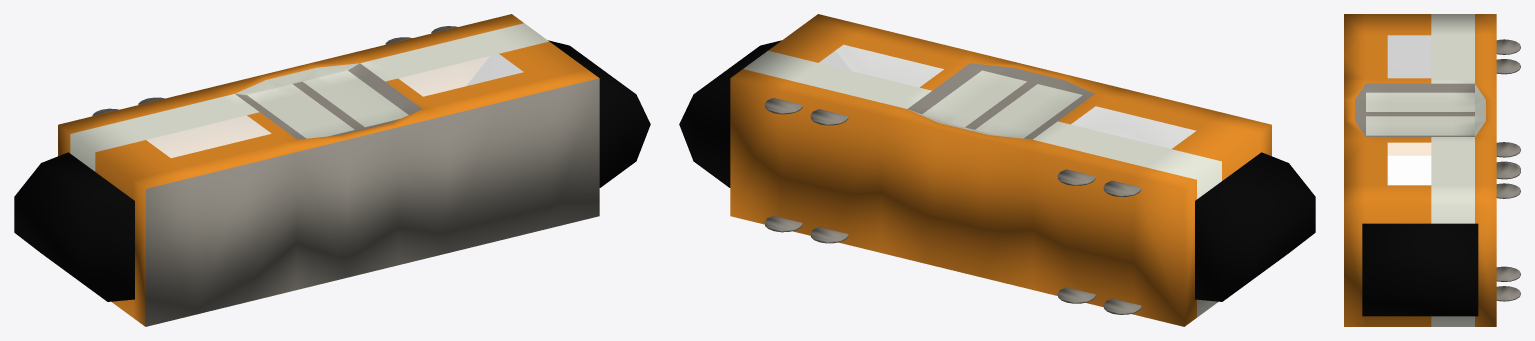
File: asset21.glb
The picture shows the model from 3 angles, left to right: view 1: azimuth 30°, elevation 25°; view 2: azimuth 150°, elevation 25°; view 3: azimuth 270°, elevation 25°; orthographic projection. The views are drawn at different scales.
Parts seen in each view (by area): view 1: Cylinder4, Cylinder4_copy22, Cylinder4_sep21; view 2: Cylinder4, Cylinder4_copy22, Cylinder4_sep21, Cylinder4_sep19, Cylinder4_sep17, Cylinder4_sep15, Cylinder4_sep20, Cylinder4_sep13, Cylinder4_sep18, Cylinder4_sep16, Cylinder4_sep14; view 3: Cylinder4, Cylinder4_sep21, Cylinder4_copy22, Cylinder4_sep20, Cylinder4_sep17, Cylinder4_sep16, Cylinder4_sep13, Cylinder4_sep19, Cylinder4_sep18, Cylinder4_sep15.
Boxes of the visible parts, x1,y1,x2,y2 form: Cylinder4: (58,14,599,326); Cylinder4_copy22: (14,152,134,301); Cylinder4_sep21: (467,40,650,187); Cylinder4: (730,14,1271,326); Cylinder4_copy22: (1195,152,1315,301); Cylinder4_sep21: (679,40,850,187); Cylinder4_sep19: (810,109,848,125); Cylinder4_sep17: (1103,180,1141,196); Cylinder4_sep15: (810,227,848,243); Cylinder4_sep20: (764,98,802,114); Cylinder4_sep13: (1103,298,1141,314); Cylinder4_sep18: (1057,169,1095,185); Cylinder4_sep16: (764,216,802,232); Cylinder4_sep14: (1057,287,1095,303); Cylinder4: (1344,14,1496,326); Cylinder4_sep21: (1362,223,1478,316); Cylinder4_copy22: (1388,36,1430,77); Cylinder4_sep20: (1496,183,1520,198); Cylinder4_sep17: (1496,39,1520,54); Cylinder4_sep16: (1496,286,1520,301); Cylinder4_sep13: (1496,142,1520,157); Cylinder4_sep19: (1496,164,1520,179); Cylinder4_sep18: (1496,59,1520,74); Cylinder4_sep15: (1496,266,1520,281).
Bounding box in the file's own units: 1.16 × 0.2692 × 0.3592.
